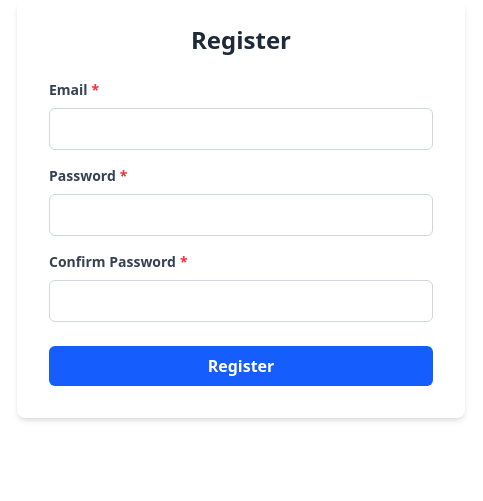
Test: RegisterForm › displays password mismatch error when passwords do not match
The width and height of the screenshot is (483, 501).
Type "test@example.com" into the field labelled "Email*" at (241, 129), box [49,108,433,150]
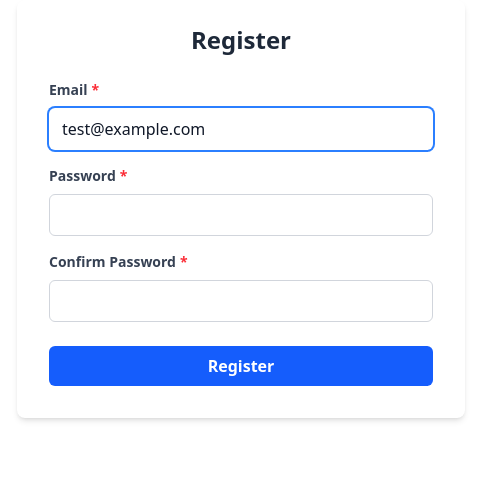
Type "password123" into the password field labelled "Password*" at (241, 215), box [49,194,433,236]
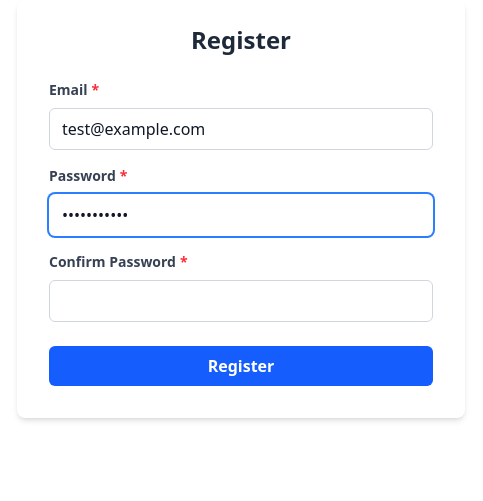
Type "differentpass" into the password field labelled "Confirm Password*" at (241, 301), box [49,280,433,322]
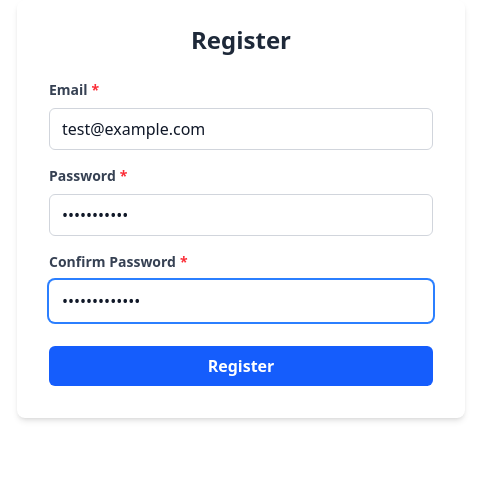
Click the button "Register" at (241, 366), box [49,346,433,386]
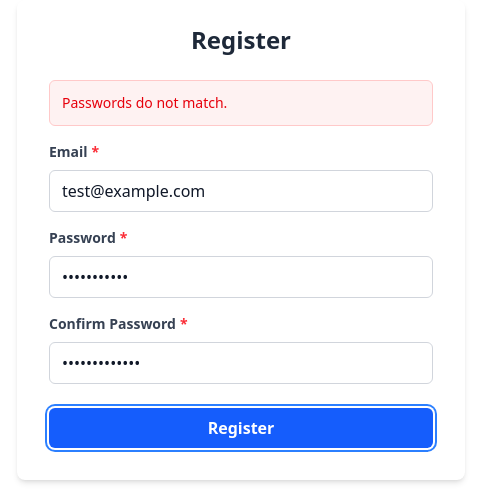
Result: the text "Passwords do not match." is shown at [62,93,227,112]
